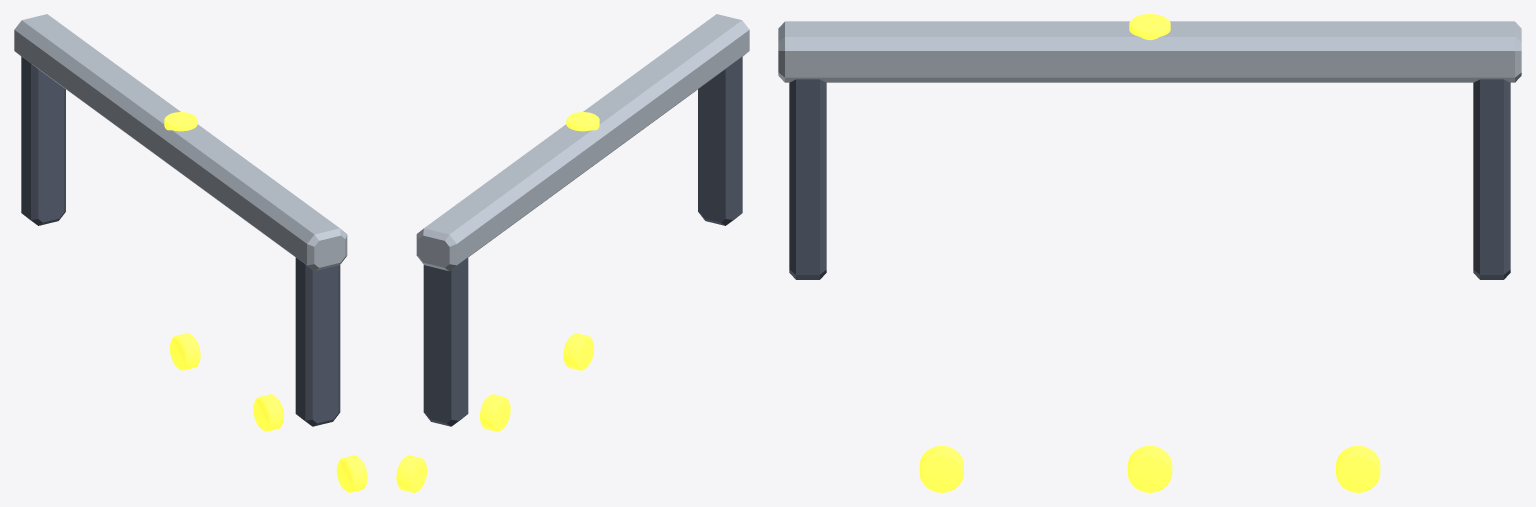
File: tower_nova_rate_s3.glb
3 views of the same model, side by side, from view 1: azimuth 30°, elevation 25°; view 2: azimuth 150°, elevation 25°; view 3: azimuth 270°, elevation 25° (orthographic). The views are drawn at different scales.
Parts seen in each view (by area): view 1: nova_hoist_rail, nova_hoist_rail_post-0.46, nova_hoist_rail_post0.46, nova_ready_lamp0, nova_ready_lamp0.28, nova_ready_lamp-0.28, nova_up_rate_l2_stud; view 2: nova_hoist_rail, nova_hoist_rail_post0.46, nova_hoist_rail_post-0.46, nova_ready_lamp0, nova_ready_lamp-0.28, nova_ready_lamp0.28, nova_up_rate_l2_stud; view 3: nova_hoist_rail, nova_hoist_rail_post-0.46, nova_hoist_rail_post0.46, nova_ready_lamp0, nova_ready_lamp-0.28, nova_ready_lamp0.28, nova_up_rate_l2_stud.
Part boxes in pixels (bbox=[...]): nova_hoist_rail: bbox=[14, 14, 347, 271]; nova_hoist_rail_post-0.46: bbox=[295, 257, 340, 426]; nova_hoist_rail_post0.46: bbox=[21, 56, 65, 225]; nova_ready_lamp0: bbox=[253, 394, 283, 431]; nova_ready_lamp0.28: bbox=[169, 333, 200, 370]; nova_ready_lamp-0.28: bbox=[336, 455, 367, 492]; nova_up_rate_l2_stud: bbox=[164, 112, 197, 131]; nova_hoist_rail: bbox=[416, 14, 749, 271]; nova_hoist_rail_post0.46: bbox=[423, 257, 468, 426]; nova_hoist_rail_post-0.46: bbox=[698, 56, 742, 225]; nova_ready_lamp0: bbox=[480, 394, 510, 431]; nova_ready_lamp-0.28: bbox=[563, 333, 594, 370]; nova_ready_lamp0.28: bbox=[396, 455, 427, 492]; nova_up_rate_l2_stud: bbox=[566, 112, 599, 131]; nova_hoist_rail: bbox=[778, 21, 1521, 82]; nova_hoist_rail_post-0.46: bbox=[789, 79, 826, 279]; nova_hoist_rail_post0.46: bbox=[1473, 79, 1510, 279]; nova_ready_lamp0: bbox=[1127, 445, 1172, 492]; nova_ready_lamp-0.28: bbox=[919, 445, 963, 492]; nova_ready_lamp0.28: bbox=[1336, 445, 1380, 492]; nova_up_rate_l2_stud: bbox=[1129, 14, 1170, 40].
Bounding box in the file's own units: 0.224 × 0.615 × 1.
